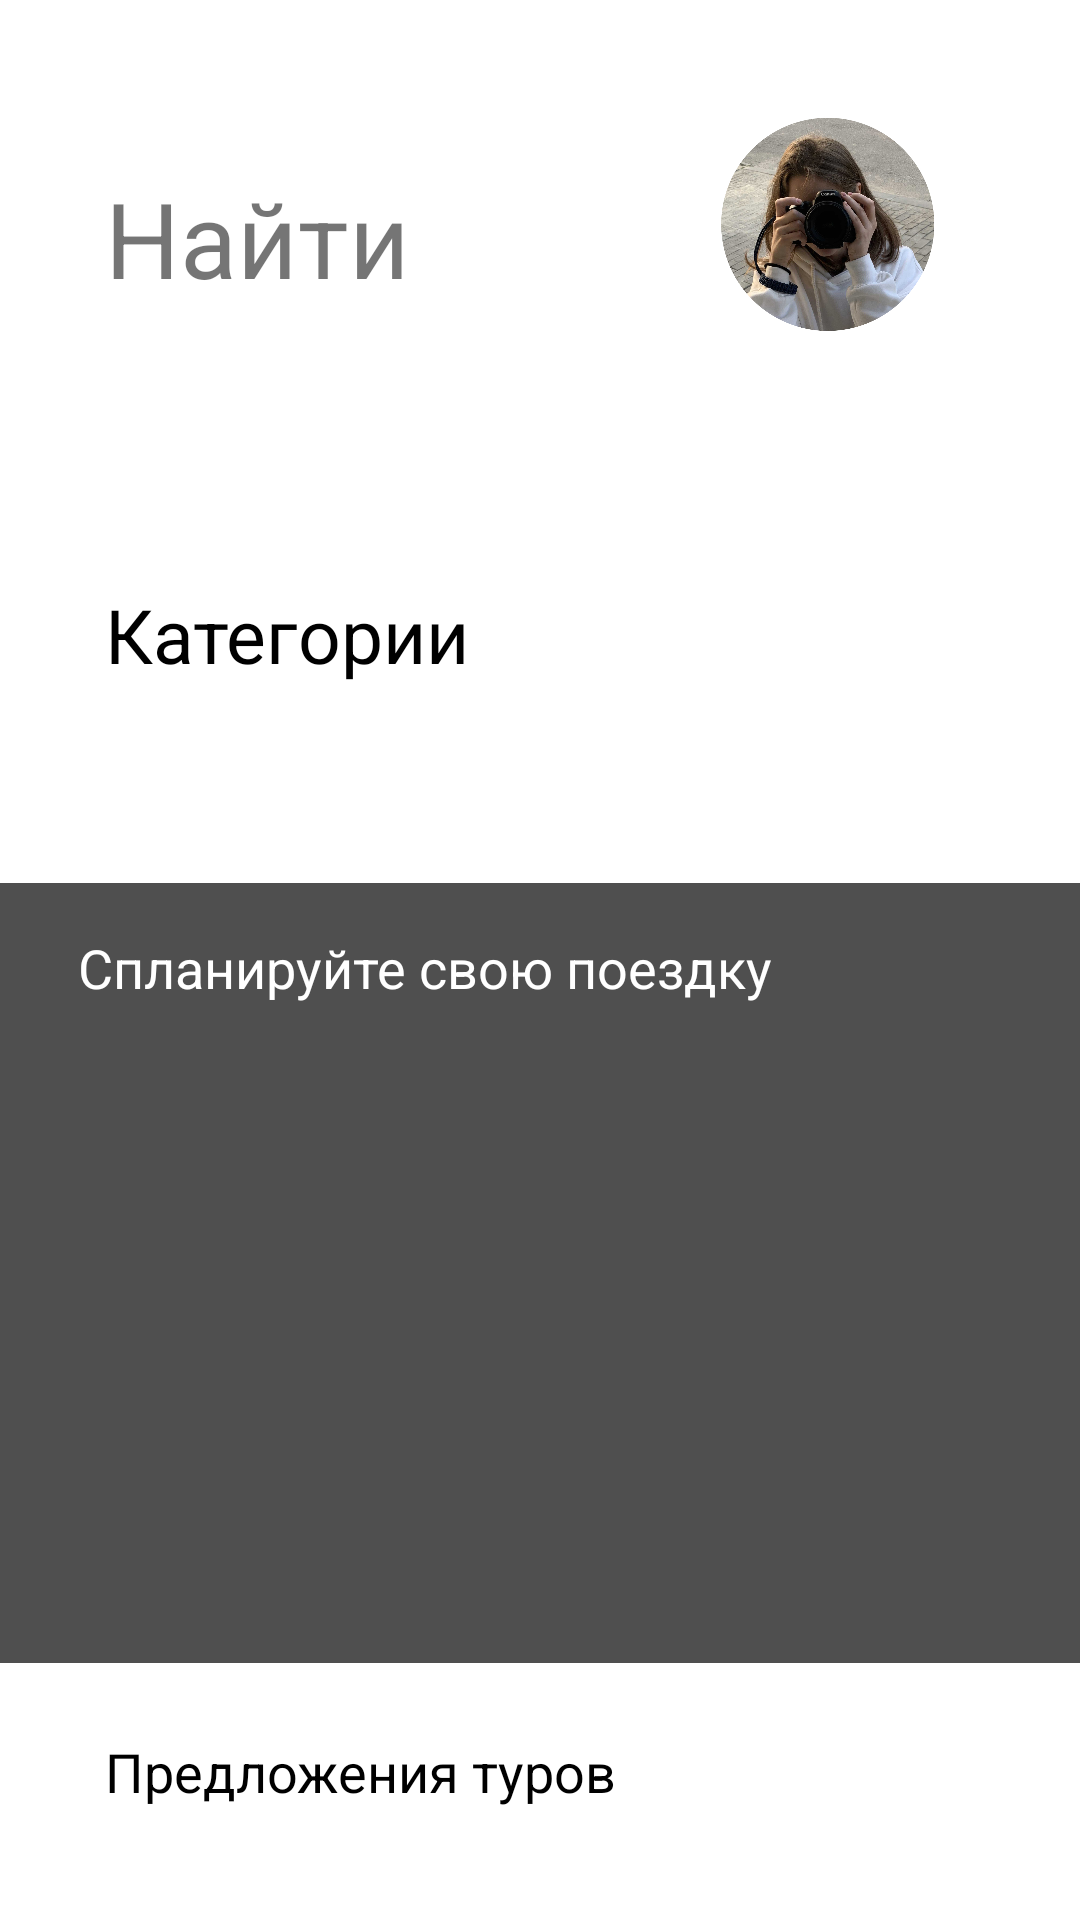

Named icons in this screenshot (1080px x 1920px) and their bounding boxes, (x1, y1, x2, y2):
profile: (721, 118, 934, 331)
